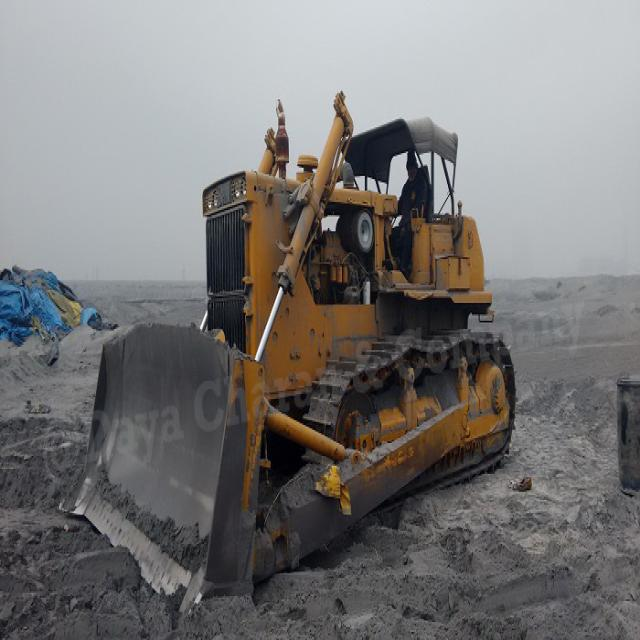buldozerpayloadergrader: (63, 93, 519, 606)
